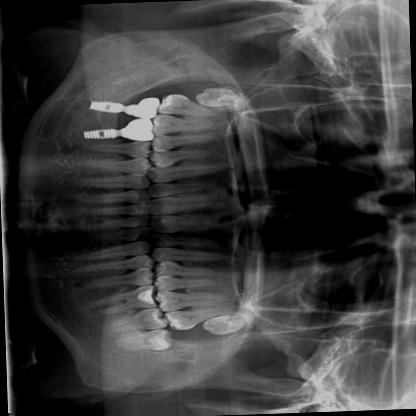Bicon: (84, 99, 124, 116), (78, 127, 120, 142)
